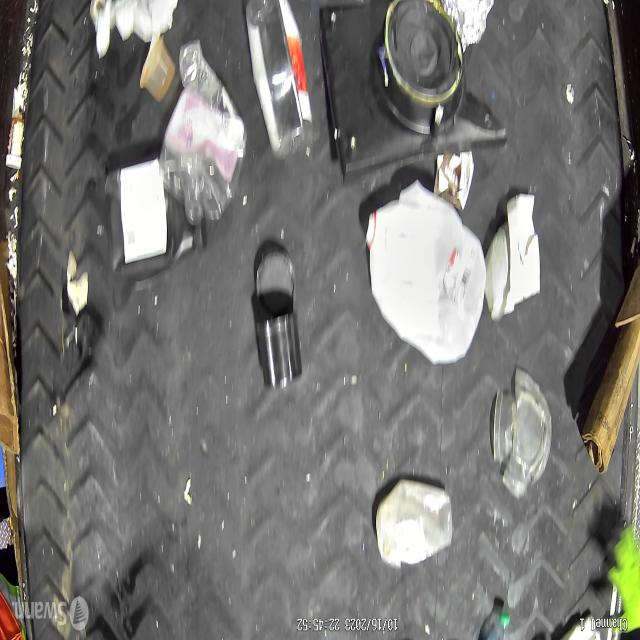milk_jug: (365, 189, 486, 366)
non_white_jug: (104, 151, 207, 280)
